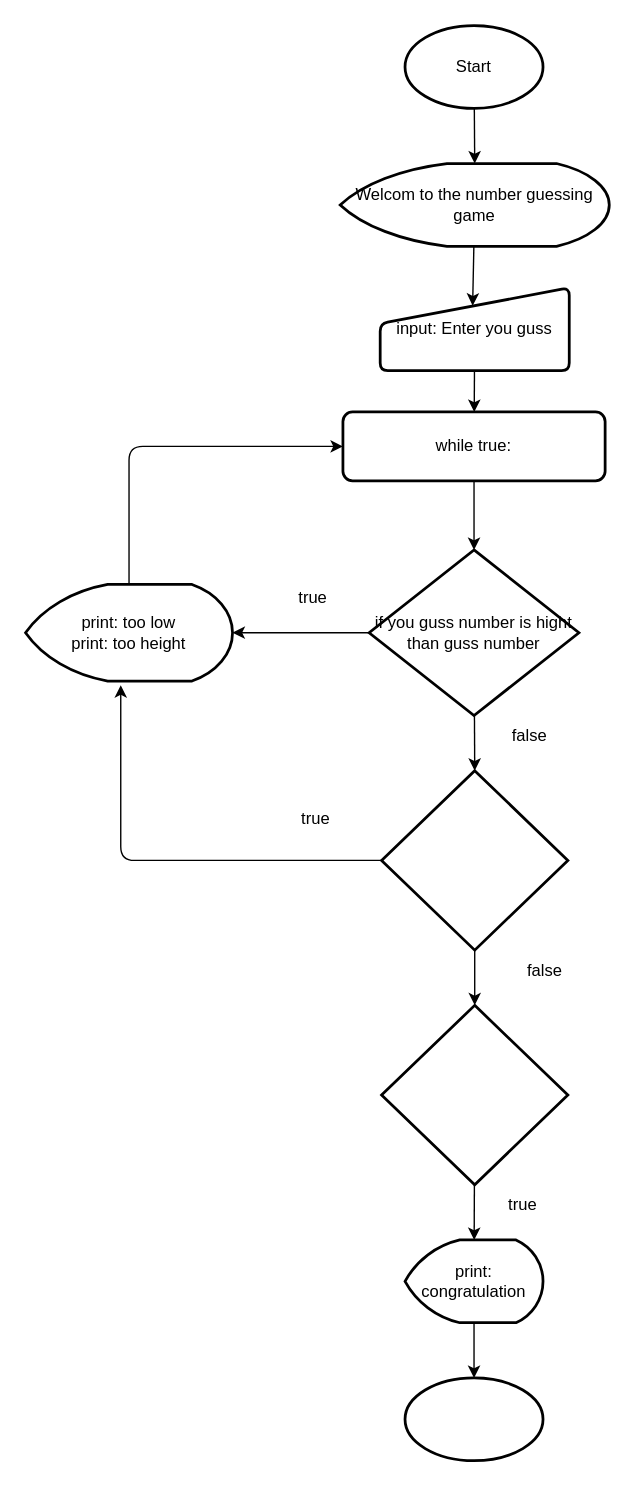
The diagram is 633 pixels wide and 1485 high, and some of its shapes have lost their labels. Each missing label, with the centre of its shape:
"End" belongs at pixel 473 1418.
"if you guss number is correct" belongs at pixel 474 1094.
"if you guss number is low than guss number" belongs at pixel 474 860.
